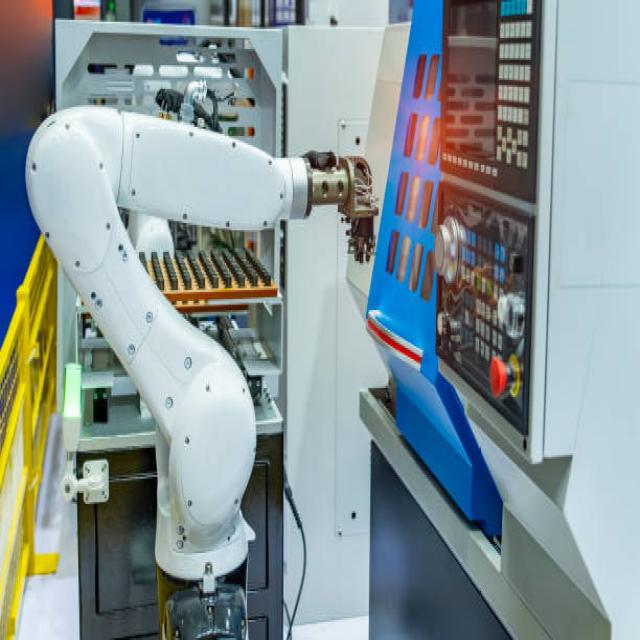Robotic-arm: (19, 95, 381, 593)
